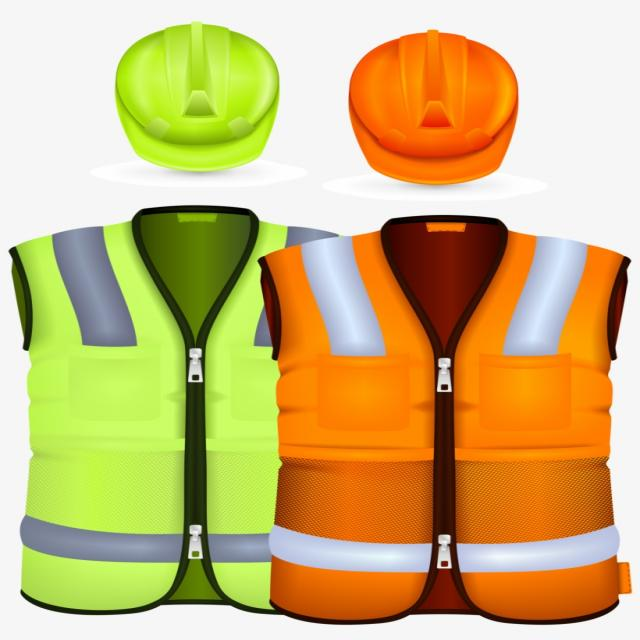Reflective-Jacket: (0, 201, 640, 628), (106, 18, 285, 176)
Safety-Helmet: (338, 26, 524, 185), (110, 21, 285, 175)
